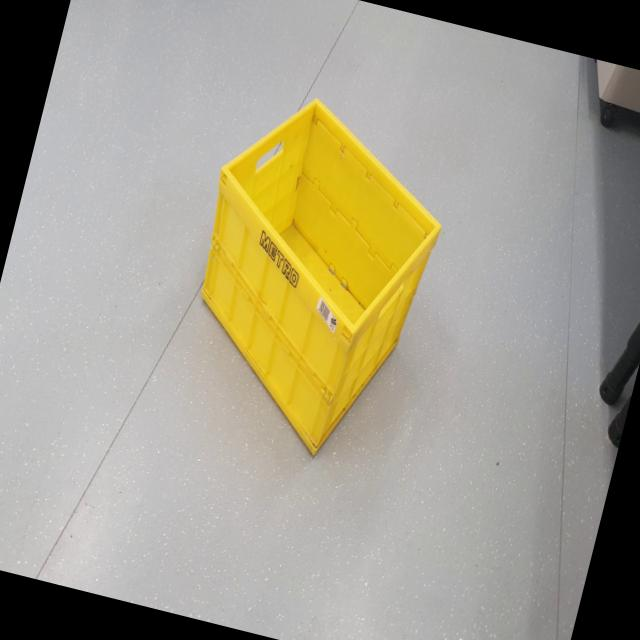box: (144, 50, 473, 488)
